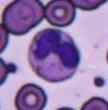N: (28, 28, 81, 82)
